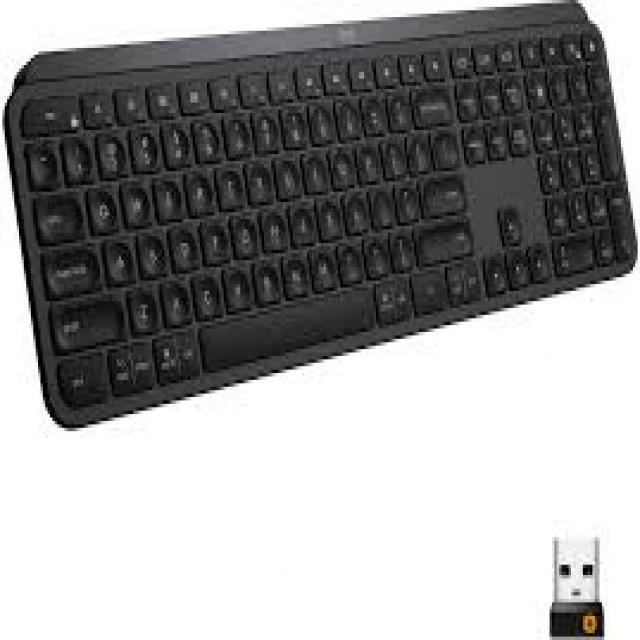others: (2, 3, 640, 434)
